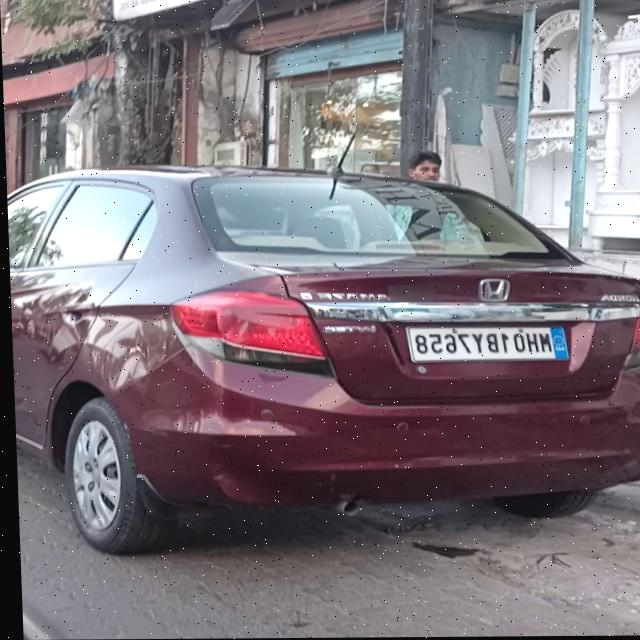plate: (403, 324, 569, 364)
